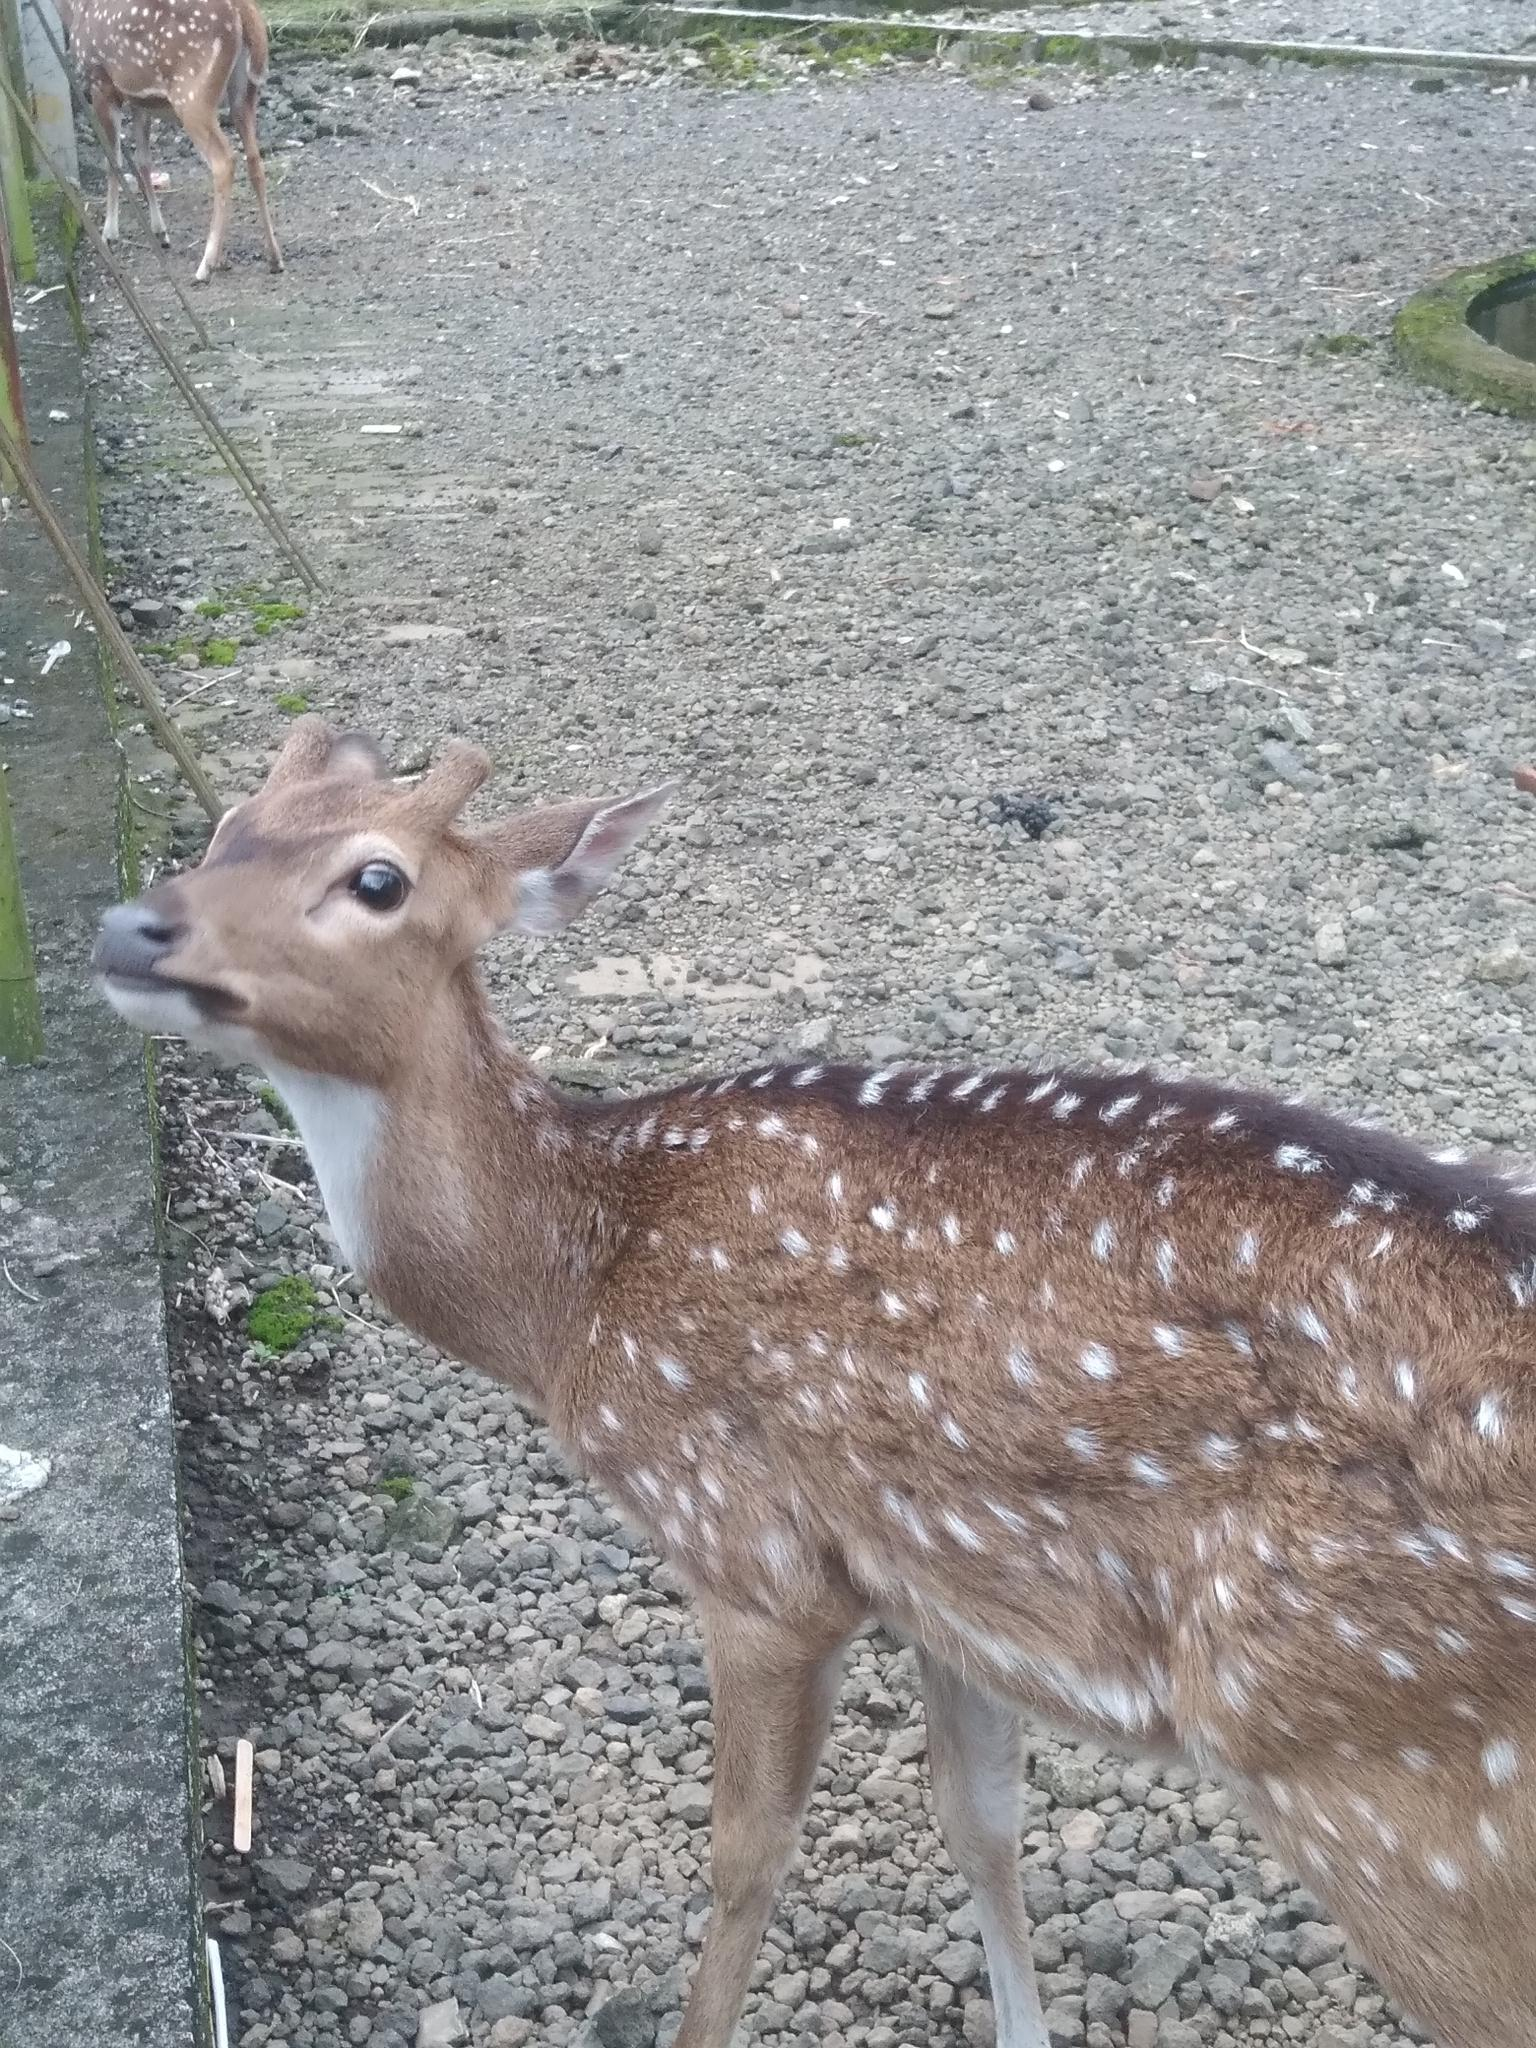Deer: (94, 719, 1534, 2046)
